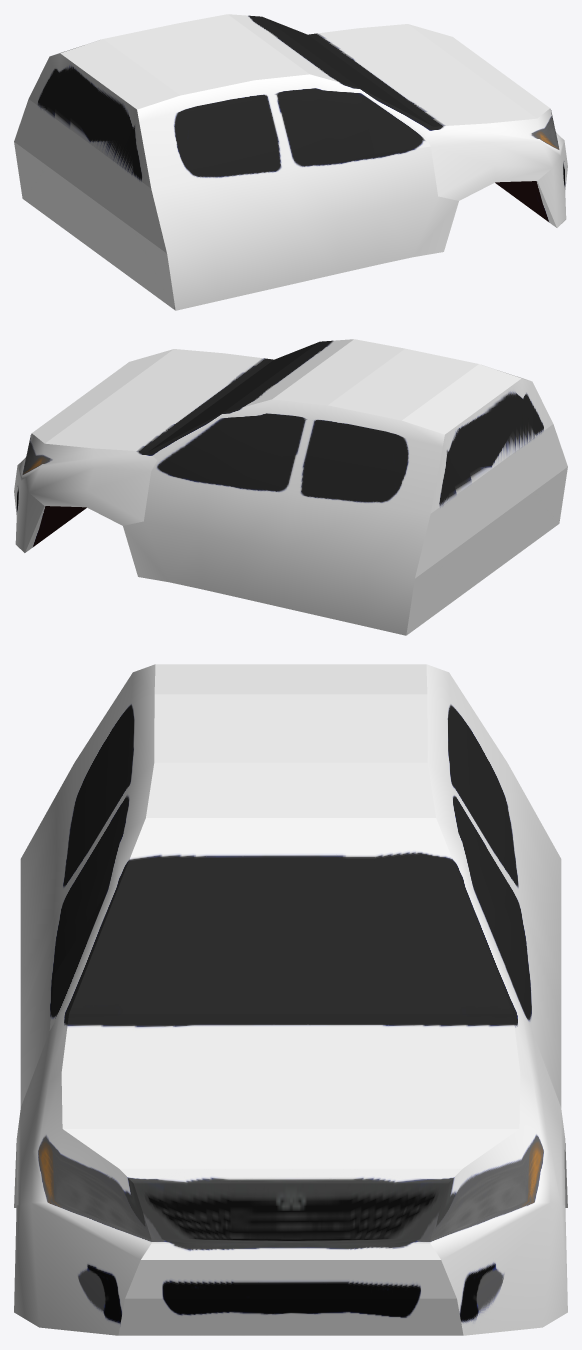
File: lp-suv-blanc.glb
3 renders of one model, top to bottom at view 1: azimuth 30°, elevation 25°; view 2: azimuth 150°, elevation 25°; view 3: azimuth 270°, elevation 25°, orthographic. The views are drawn at different scales.
Visible parts, largest first — view 1: Object_36; view 2: Object_36; view 3: Object_36.
Part boxes in pixels (left/top/right/bottom): Object_36: left=14, top=14, right=567, bottom=310; Object_36: left=14, top=339, right=567, bottom=635; Object_36: left=14, top=664, right=567, bottom=1335.
Bounding box in the file's own units: 4.12 × 1.7 × 2.59.
1 material, 1 textured.
